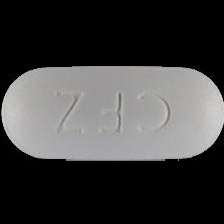50458-141: (0, 0, 224, 224)
